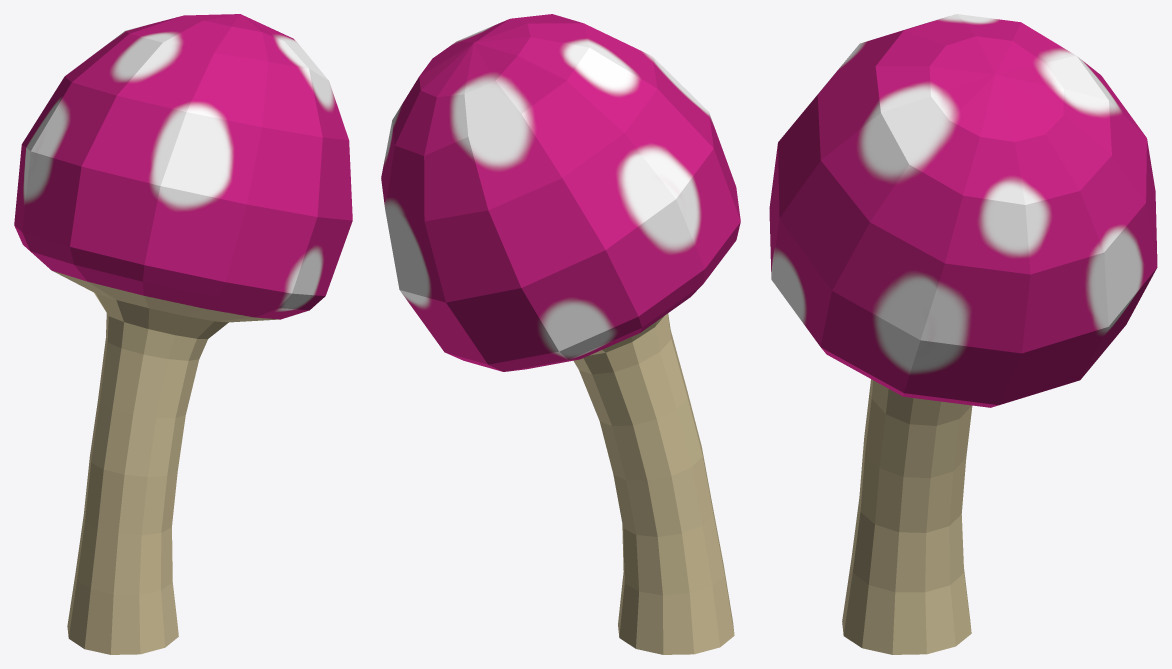
File: mush1.fbx
3 views of the same model, side by side, from view 1: azimuth 30°, elevation 25°; view 2: azimuth 150°, elevation 25°; view 3: azimuth 270°, elevation 25° (orthographic). The views are drawn at different scales.
Visible parts, largest first — view 1: Cylinder_4; view 2: Cylinder_4; view 3: Cylinder_4.
Boxes of the visible parts, x1,y1,x2,y2 form: Cylinder_4: [14, 14, 352, 654]; Cylinder_4: [381, 14, 740, 654]; Cylinder_4: [769, 14, 1157, 654].
Bounding box in the file's own units: 203 × 364 × 196.
Materials: 1 (1 with a texture image).
